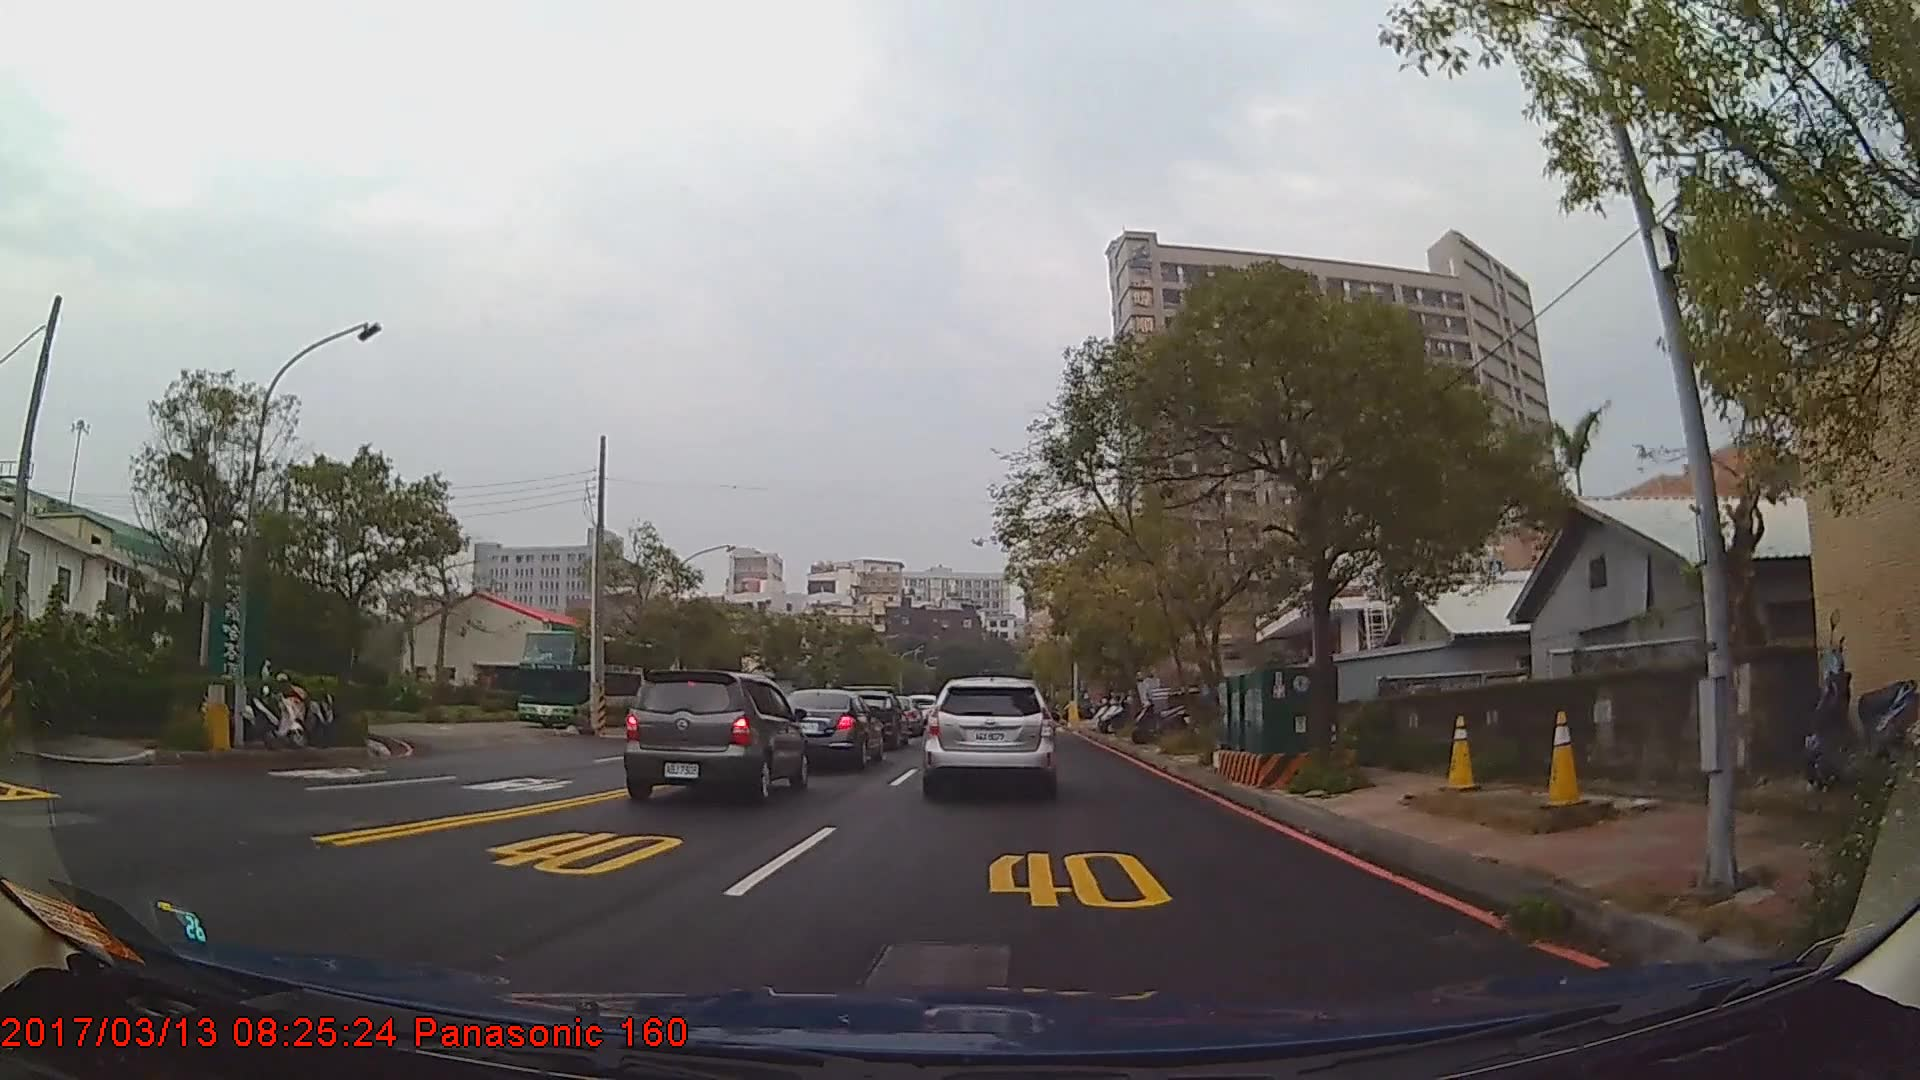vehicle: (618, 667, 804, 804), (514, 628, 676, 735), (922, 674, 1058, 794), (769, 686, 882, 771)
